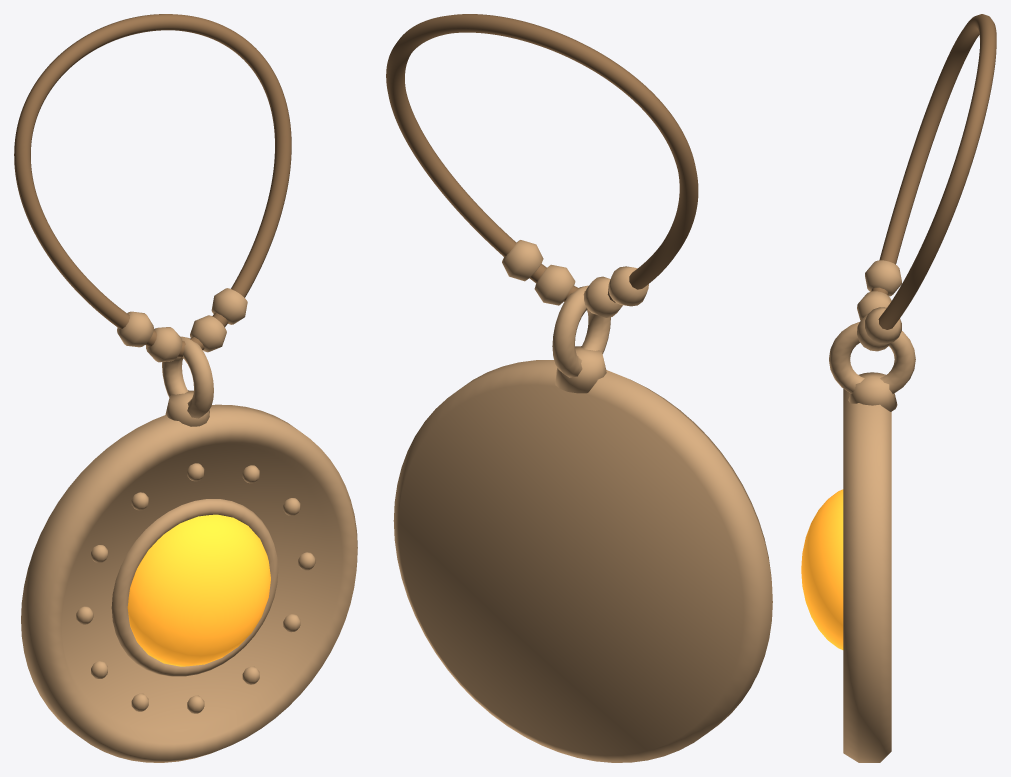
The model's file is jewel_amulet_common.glb.
3 views of the same model, side by side, from view 1: azimuth 30°, elevation 25°; view 2: azimuth 150°, elevation 25°; view 3: azimuth 270°, elevation 25° (orthographic). The views are drawn at different scales.
Visible parts, largest first — view 1: jewel_amulet_common; view 2: jewel_amulet_common; view 3: jewel_amulet_common.
Part boxes in pixels (bbox=[...]): jewel_amulet_common: bbox=[14, 14, 357, 762]; jewel_amulet_common: bbox=[386, 14, 772, 762]; jewel_amulet_common: bbox=[801, 14, 996, 762].
Bounding box in the file's own units: 2 × 4.06 × 1.01.
